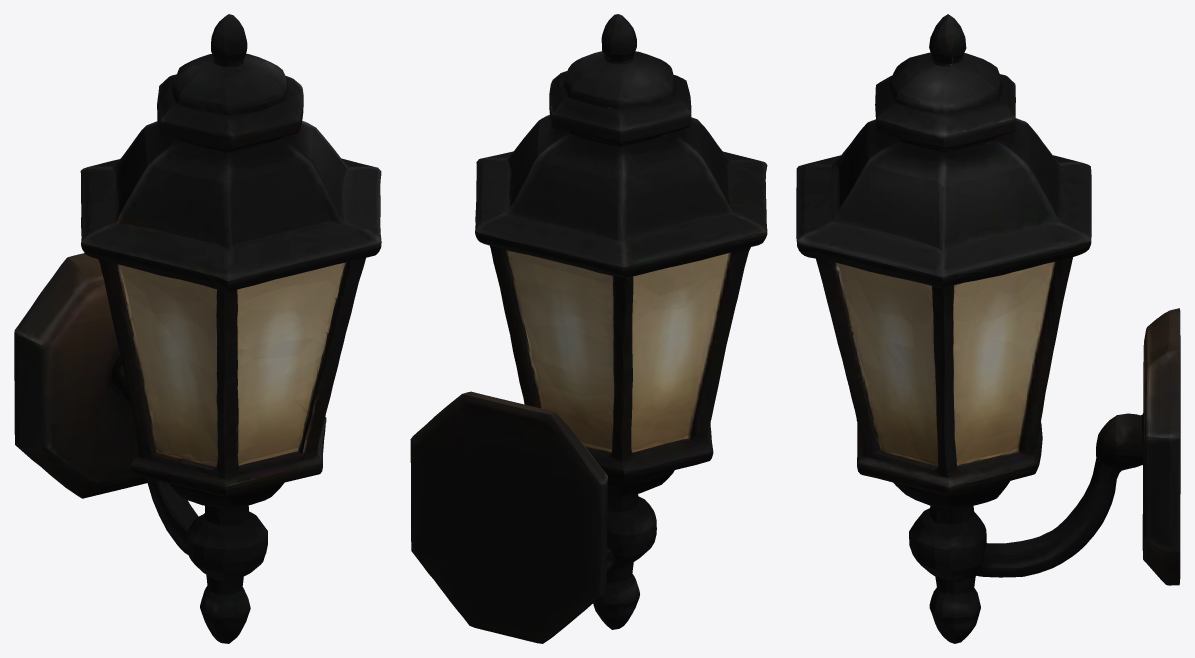
File: front porch light.glb
3 views of the same model, side by side, from view 1: azimuth 30°, elevation 25°; view 2: azimuth 150°, elevation 25°; view 3: azimuth 270°, elevation 25° (orthographic). The views are drawn at different scales.
Parts seen in each view (by area): view 1: world; view 2: world; view 3: world.
Boxes of the visible parts, x1=… form: world: x1=14, y1=14, x2=381, y2=643; world: x1=410, y1=14, x2=767, y2=643; world: x1=796, y1=14, x2=1180, y2=643.
Bounding box in the file's own units: 0.4962 × 0.9976 × 0.5529.
1 material, 1 textured.
